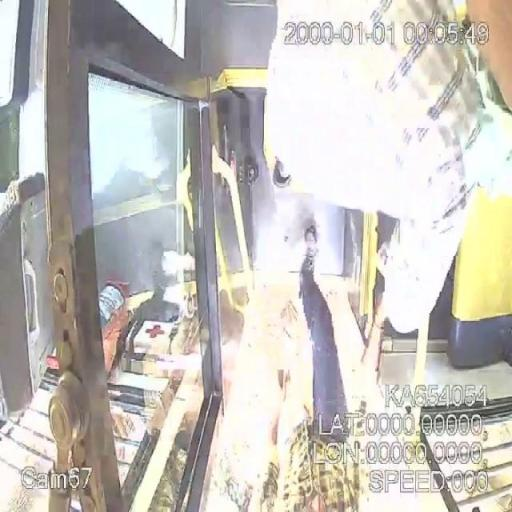persona: (264, 0, 510, 398), (250, 225, 372, 512)
